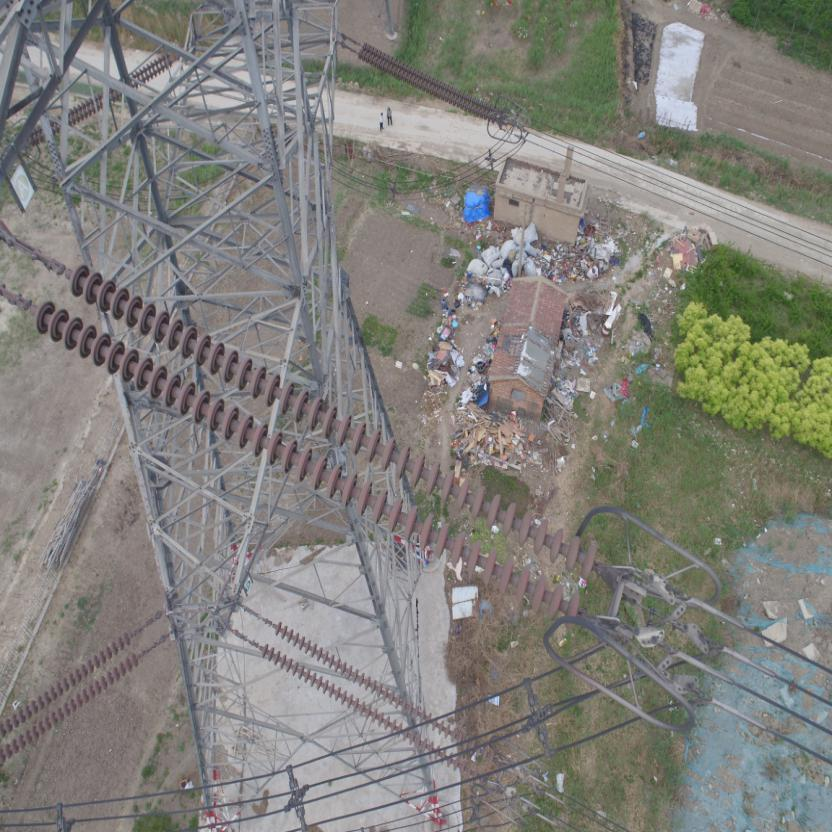insulator: (7, 258, 613, 630), (248, 617, 506, 785), (0, 628, 153, 765), (358, 42, 503, 122)
